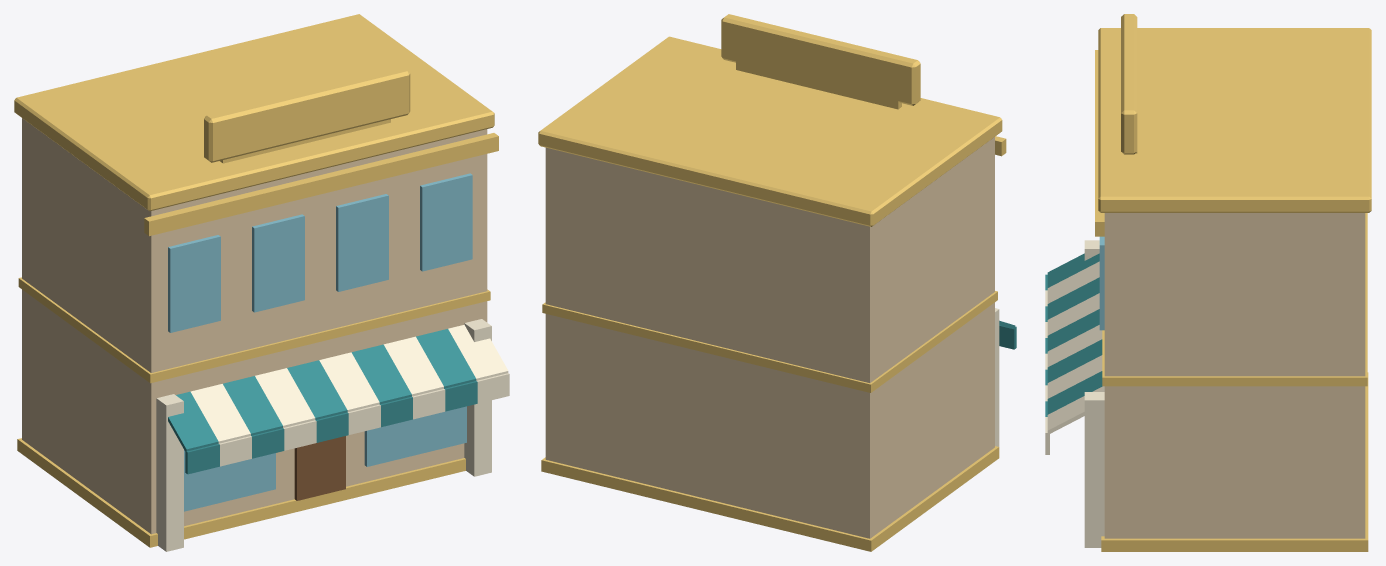
Rendered from flagship.glb.
The picture shows the model from 3 angles, left to right: view 1: azimuth 30°, elevation 25°; view 2: azimuth 150°, elevation 25°; view 3: azimuth 270°, elevation 25°; orthographic projection. The views are drawn at different scales.
Visible parts, largest first — view 1: flagship; view 2: flagship; view 3: flagship.
Part boxes in pixels (x1=…): flagship: x1=14, y1=14, x2=509, y2=551; flagship: x1=538, y1=14, x2=1016, y2=551; flagship: x1=1045, y1=14, x2=1371, y2=551.
Size of the model in its own units: 0.5 by 0.55 by 0.401.
